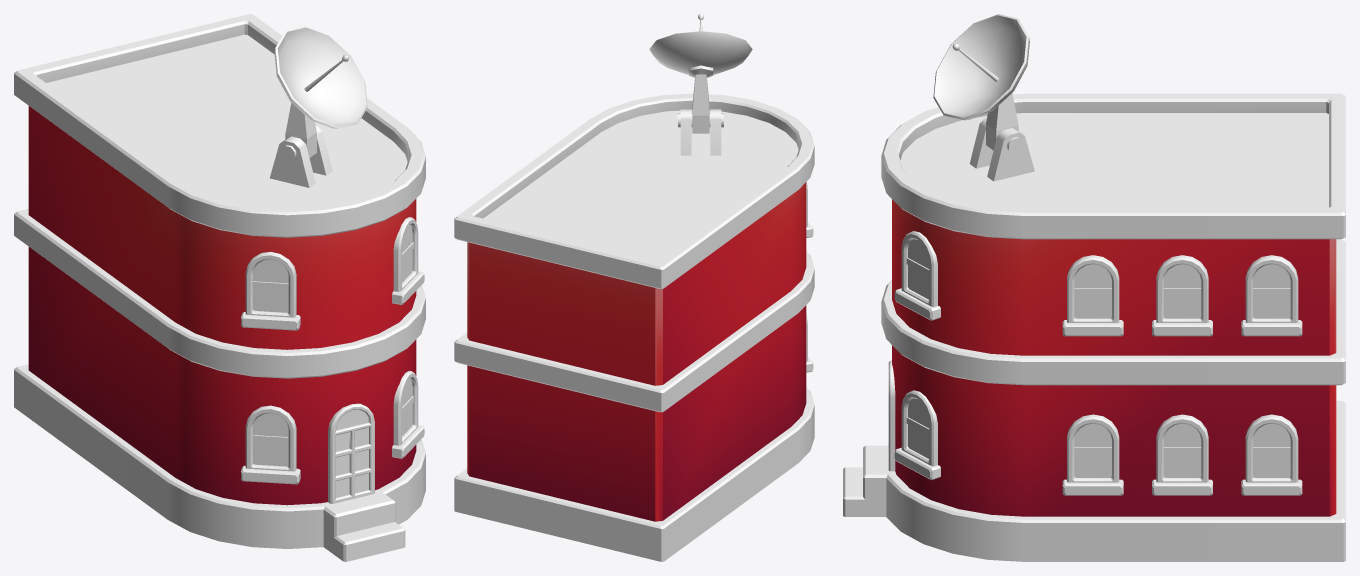
The model's file is House_13.fbx.
3 renders of one model, left to right at view 1: azimuth 30°, elevation 25°; view 2: azimuth 150°, elevation 25°; view 3: azimuth 270°, elevation 25°, orthographic. The views are drawn at different scales.
Parts seen in each view (by area): view 1: House_13; view 2: House_13; view 3: House_13.
Boxes of the visible parts, left/top/right/bottom form: House_13: left=14, top=14, right=425, bottom=561; House_13: left=454, top=14, right=814, bottom=561; House_13: left=843, top=14, right=1345, bottom=561.
Size of the model in its own units: 389 by 711 by 675.
